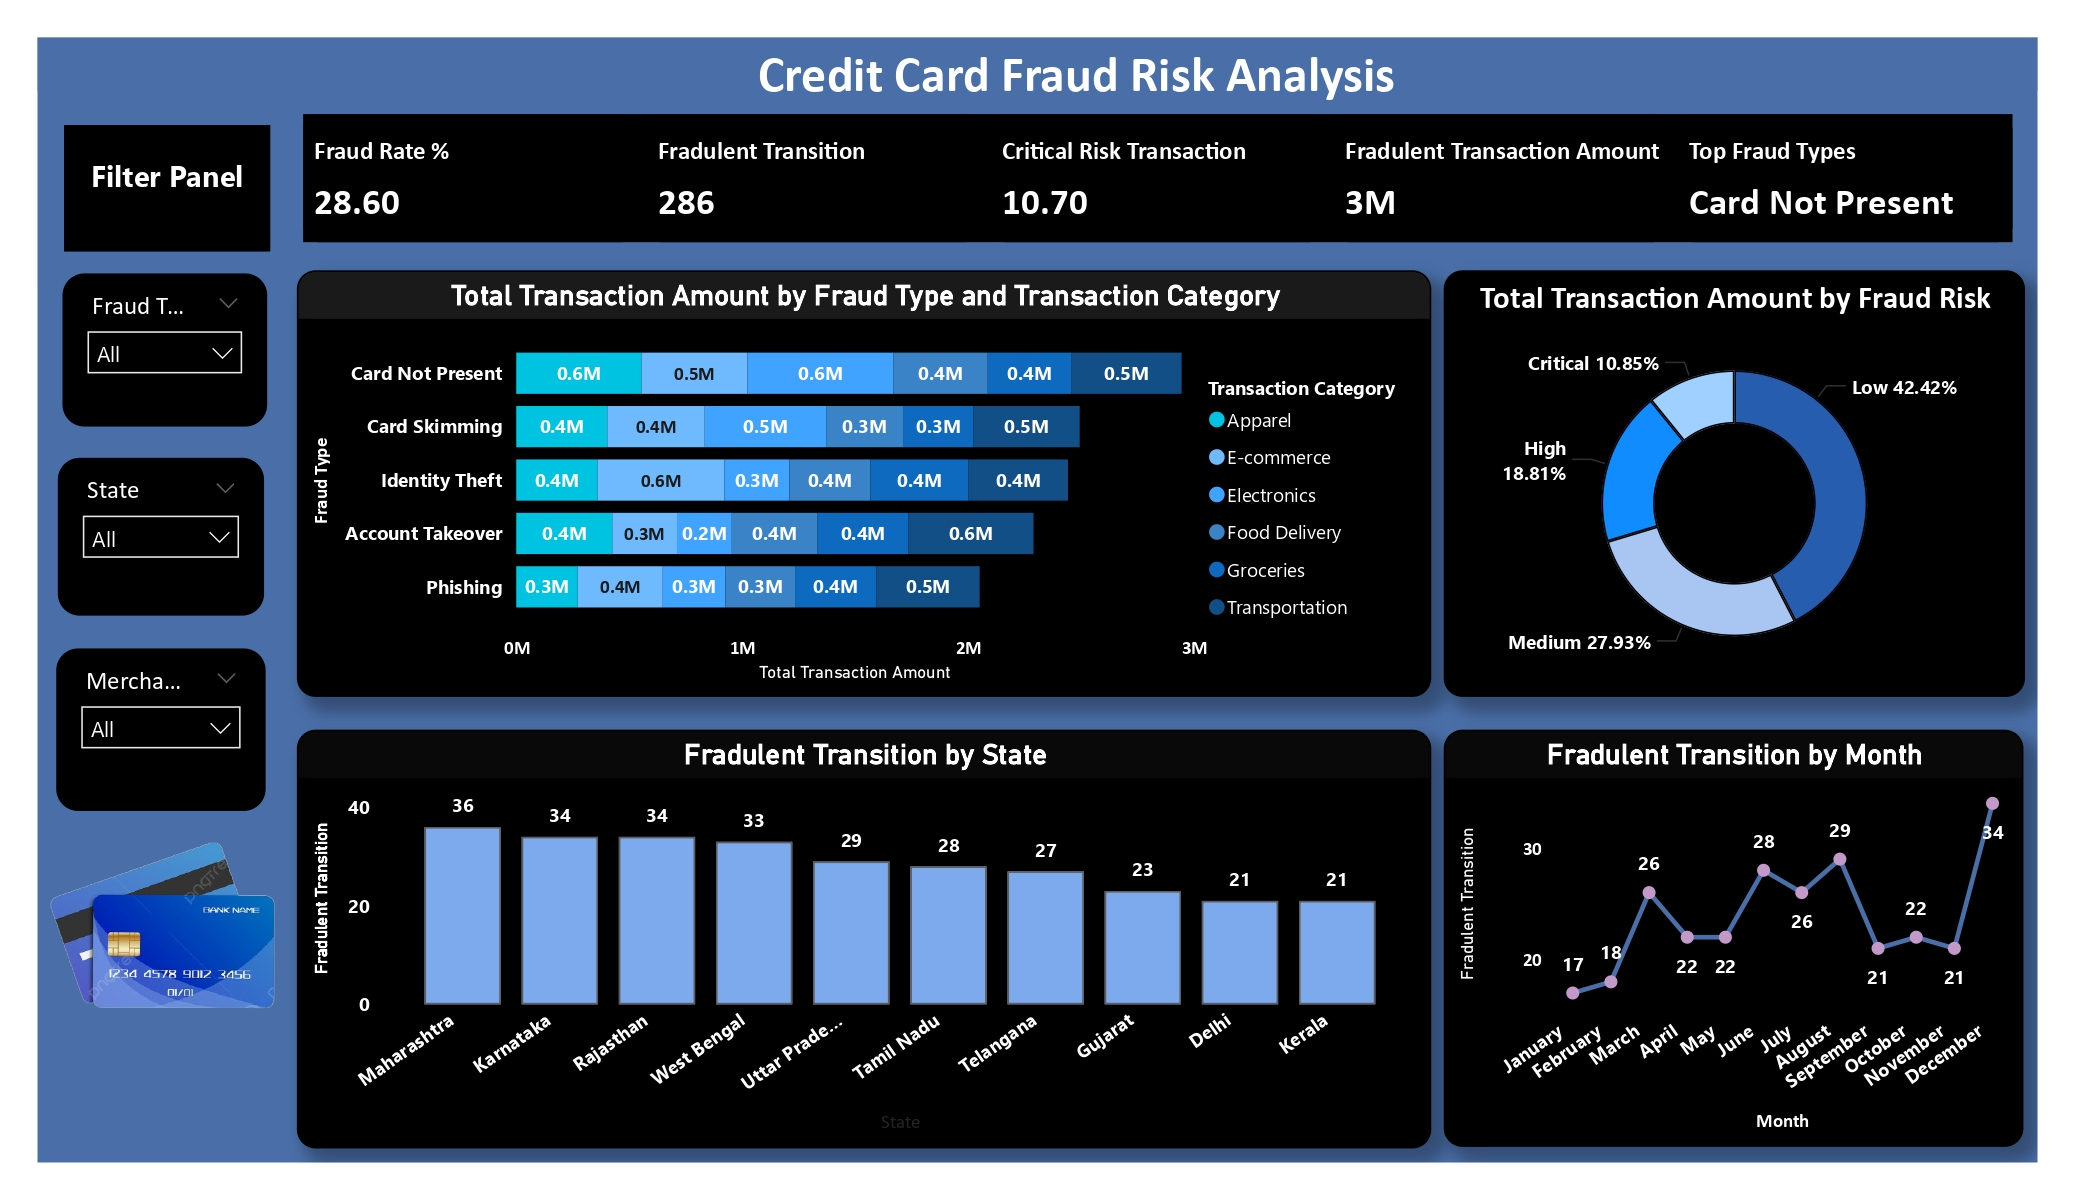

The dashboard page shown, as its layout file describes it:
{"tool":"powerbi","page":{"name":"Dashboard","canvas":[1280,720],"ordinal":0},"visuals":[{"type":"textbox","box":[17.1,55.7,131.4,81.4],"z":0},{"type":"barChart","fields":{"Y":["Credit Card Fraud Risk Analysis ap.Total Transaction Amount"],"Category":["Credit Card Fraud Risk Analysis ap.Fraud Type"],"Series":["Credit Card Fraud Risk Analysis ap.Transaction Category"]},"box":[166.5,149.1,725.1,272.7],"z":1000},{"type":"donutChart","fields":{"Y":["Credit Card Fraud Risk Analysis ap.Total Transaction Amount"],"Category":["Credit Card Fraud Risk Analysis ap.Fraud Risk"]},"box":[900,149.1,371.6,272.7],"z":2000},{"type":"columnChart","fields":{"Y":["Credit Card Fraud Risk Analysis ap.Fradulent Transition"],"Category":["Credit Card Fraud Risk Analysis ap.State"]},"box":[166.5,442.8,725.1,267.8],"z":3000},{"type":"areaChart","fields":{"Category":["Credit Card Fraud Risk Analysis ap.Transaction Date.Variation.Date Hierarchy.Month"],"Y":["Credit Card Fraud Risk Analysis ap.Fradulent Transition"]},"box":[900,442.9,371.4,267.1],"z":4000},{"type":"slicer","fields":{"Values":["Credit Card Fraud Risk Analysis ap.Fraud Type"]},"box":[15.7,150.8,131.5,97.7],"z":5000},{"type":"slicer","fields":{"Values":["Credit Card Fraud Risk Analysis ap.State"]},"box":[13.3,269,131.5,101.3],"z":6000},{"type":"slicer","fields":{"Values":["Credit Card Fraud Risk Analysis ap.Merchant Name"]},"box":[12.1,390.9,133.9,103.8],"z":7000},{"type":"cardVisual","fields":{"Data":["Credit Card Fraud Risk Analysis ap.Fraud Rate %","Credit Card Fraud Risk Analysis ap.Fradulent Transition","Credit Card Fraud Risk Analysis ap.Critical Risk Transaction","Credit Card Fraud Risk Analysis ap.Fradulent Transaction Amount","Credit Card Fraud Risk Analysis ap.Top Fraud Types"]},"box":[158.6,44.3,1112.9,92.9],"z":8000},{"type":"textbox","box":[455.7,4.3,478.6,45.7],"z":9000},{"type":"image","box":[1.4,458.6,158.6,225.7],"z":10000}]}

Visuals, with their boxes in screenshot pixels (x1, y1, x2, y2):
textbox: BBox(64, 125, 270, 252)
barChart - Credit Card Fraud Risk Analysis ap.Total Transaction Amount x Credit Card Fraud Risk Analysis ap.Fraud Type: BBox(298, 270, 1431, 697)
donutChart - Credit Card Fraud Risk Analysis ap.Total Transaction Amount x Credit Card Fraud Risk Analysis ap.Fraud Risk: BBox(1444, 270, 2024, 697)
columnChart - Credit Card Fraud Risk Analysis ap.Fradulent Transition x Credit Card Fraud Risk Analysis ap.State: BBox(298, 729, 1431, 1148)
areaChart - Credit Card Fraud Risk Analysis ap.Transaction Date.Variation.Date Hierarchy.Month x Credit Card Fraud Risk Analysis ap.Fradulent Transition: BBox(1444, 730, 2024, 1147)
slicer - Credit Card Fraud Risk Analysis ap.Fraud Type: BBox(62, 273, 268, 426)
slicer - Credit Card Fraud Risk Analysis ap.State: BBox(58, 458, 264, 616)
slicer - Credit Card Fraud Risk Analysis ap.Merchant Name: BBox(56, 648, 266, 810)
cardVisual - Credit Card Fraud Risk Analysis ap.Fraud Rate % x Credit Card Fraud Risk Analysis ap.Fradulent Transition: BBox(285, 107, 2024, 252)
textbox: BBox(750, 44, 1497, 116)
image: BBox(40, 754, 288, 1107)
